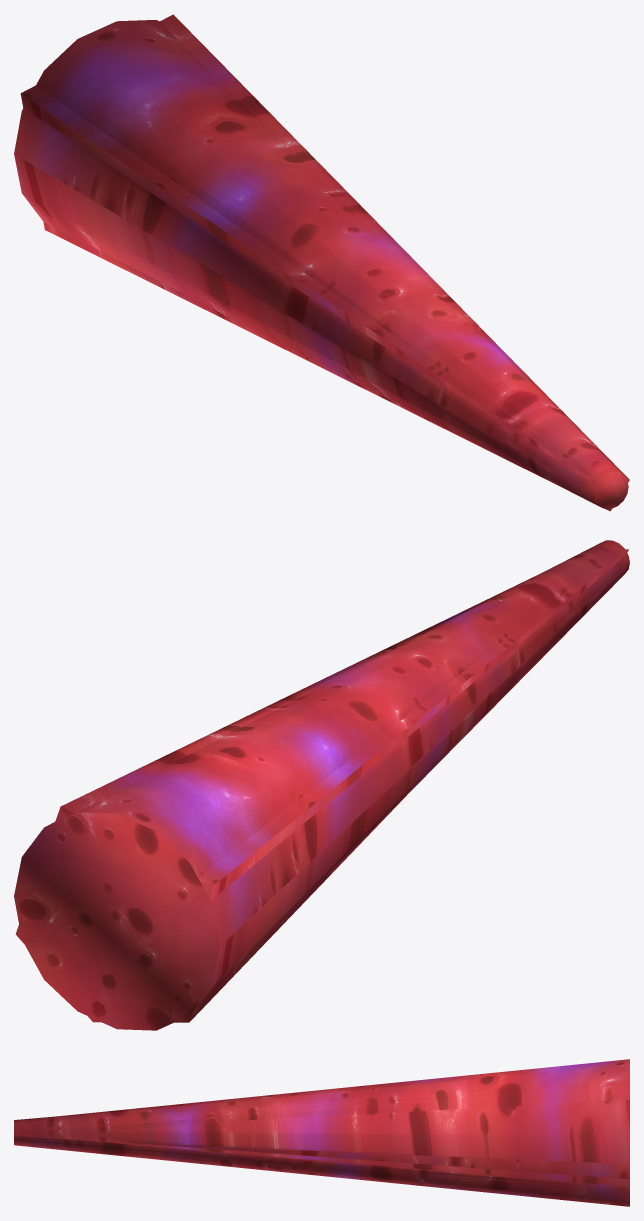
File: tail_basic.fbx
3 views of the same model, one above another, from view 1: azimuth 30°, elevation 25°; view 2: azimuth 150°, elevation 25°; view 3: azimuth 270°, elevation 25° (orthographic). The views are drawn at different scales.
Parts seen in each view (by area): view 1: tail_basic_VIS, tail_basic_COL; view 2: tail_basic_VIS, tail_basic_COL; view 3: tail_basic_VIS, tail_basic_COL.
Boxes of the visible parts, x1,y1,x2,y2 form: tail_basic_VIS: (14,20,628,509); tail_basic_COL: (20,14,629,511); tail_basic_VIS: (14,540,629,1030); tail_basic_COL: (15,549,628,1022); tail_basic_VIS: (14,1059,629,1206); tail_basic_COL: (14,1085,629,1189).
Bounding box in the file's own units: 24 × 24 × 100.
